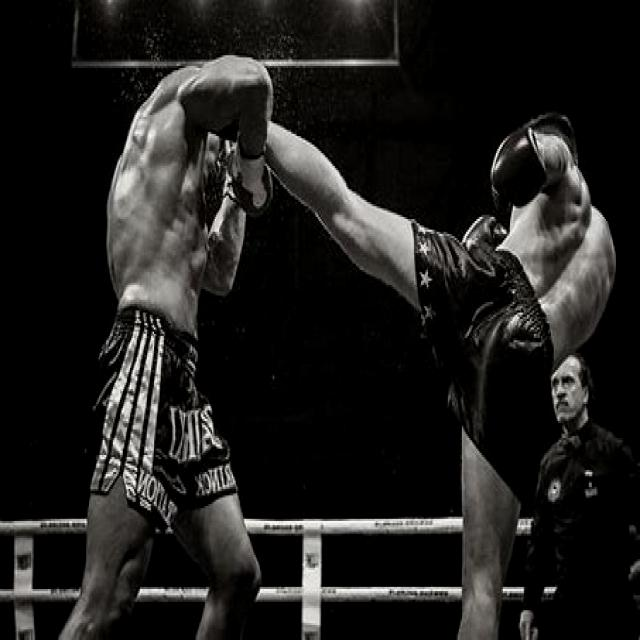fight: (88, 34, 611, 508)
